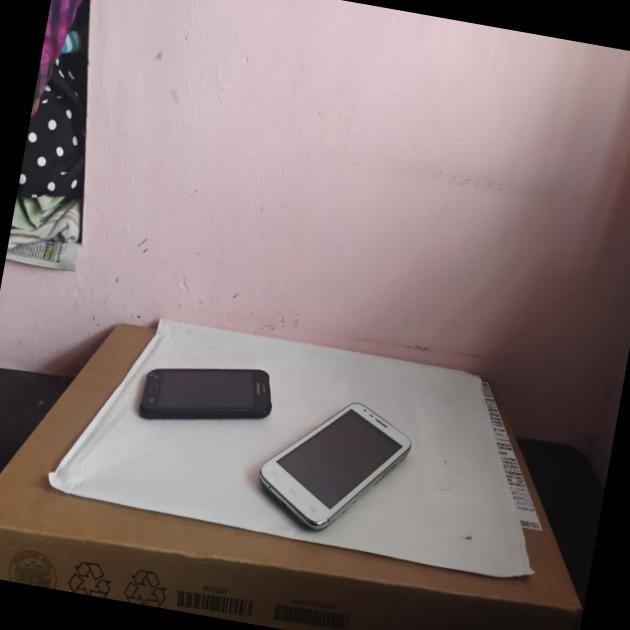phone: (252, 402, 416, 549), (131, 346, 274, 442)
